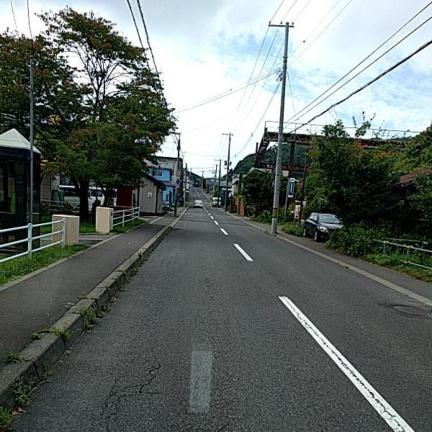Road: (14, 190, 431, 431)
